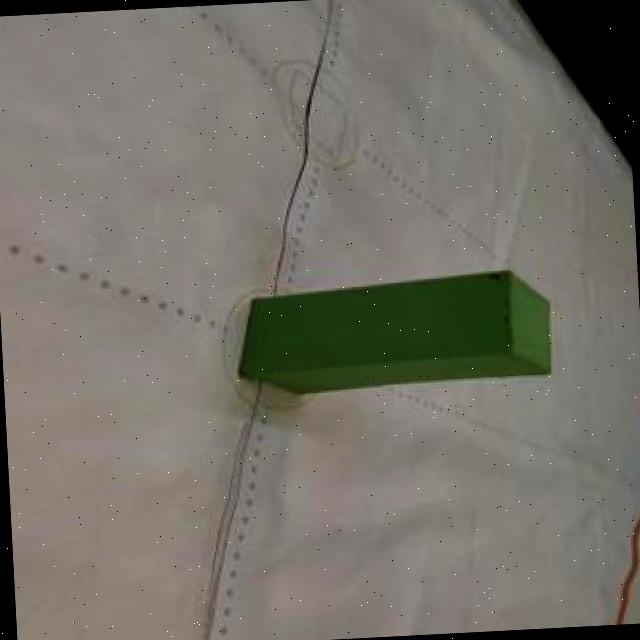greenbox: (236, 263, 560, 398)
